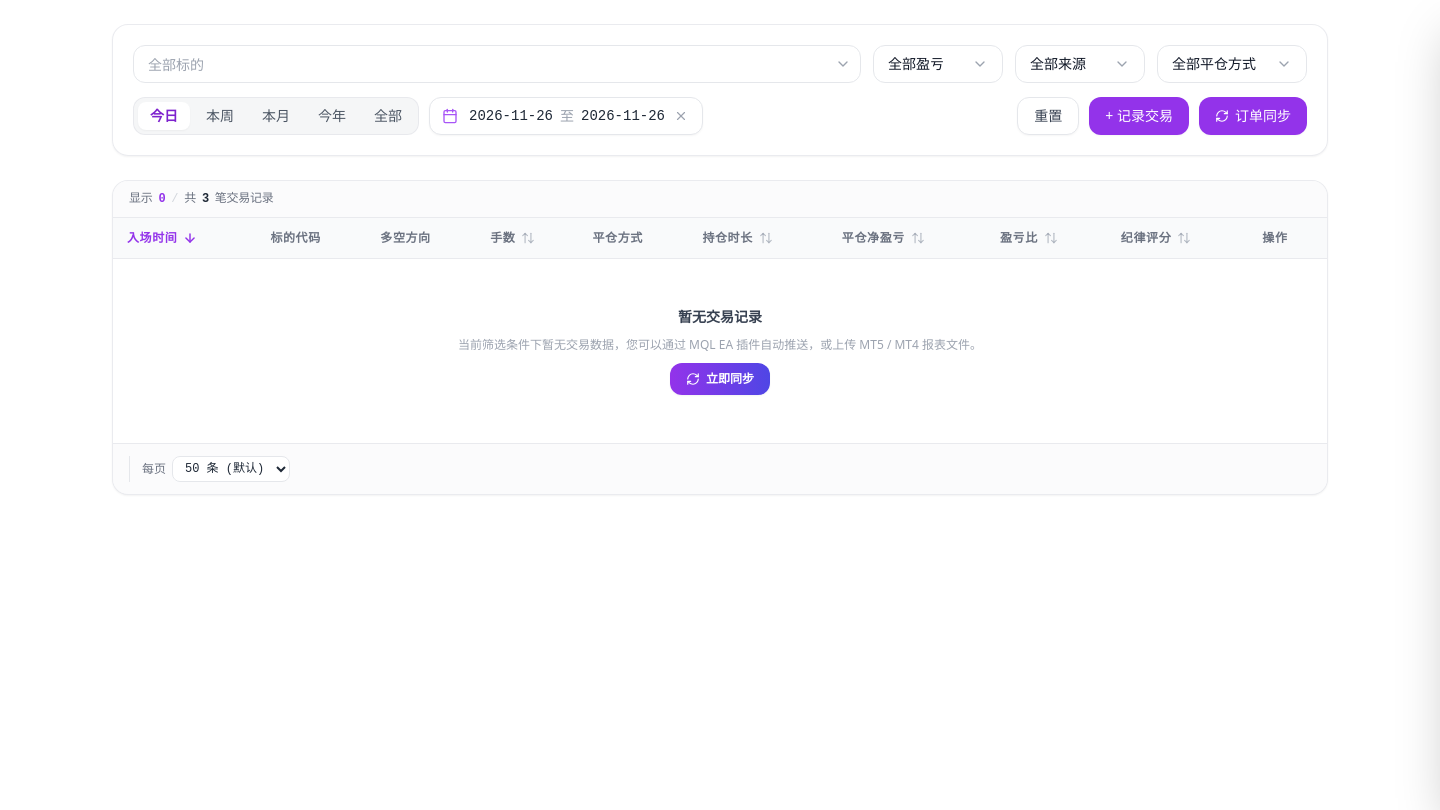
Test: TradesPage › renders "订单同步" button, unifies exit method, and filters by custom date range
This screenshot has width=1440, height=810.
Check: the button "订单同步" is shown, box left=1199, top=97, right=1307, bottom=135
Check: the column heading "平仓方式" is shown, box left=580, top=218, right=690, bottom=258
Note: Click "全部" to view all trades
Click the button "全部": [388, 116] box left=362, top=102, right=414, bottom=130
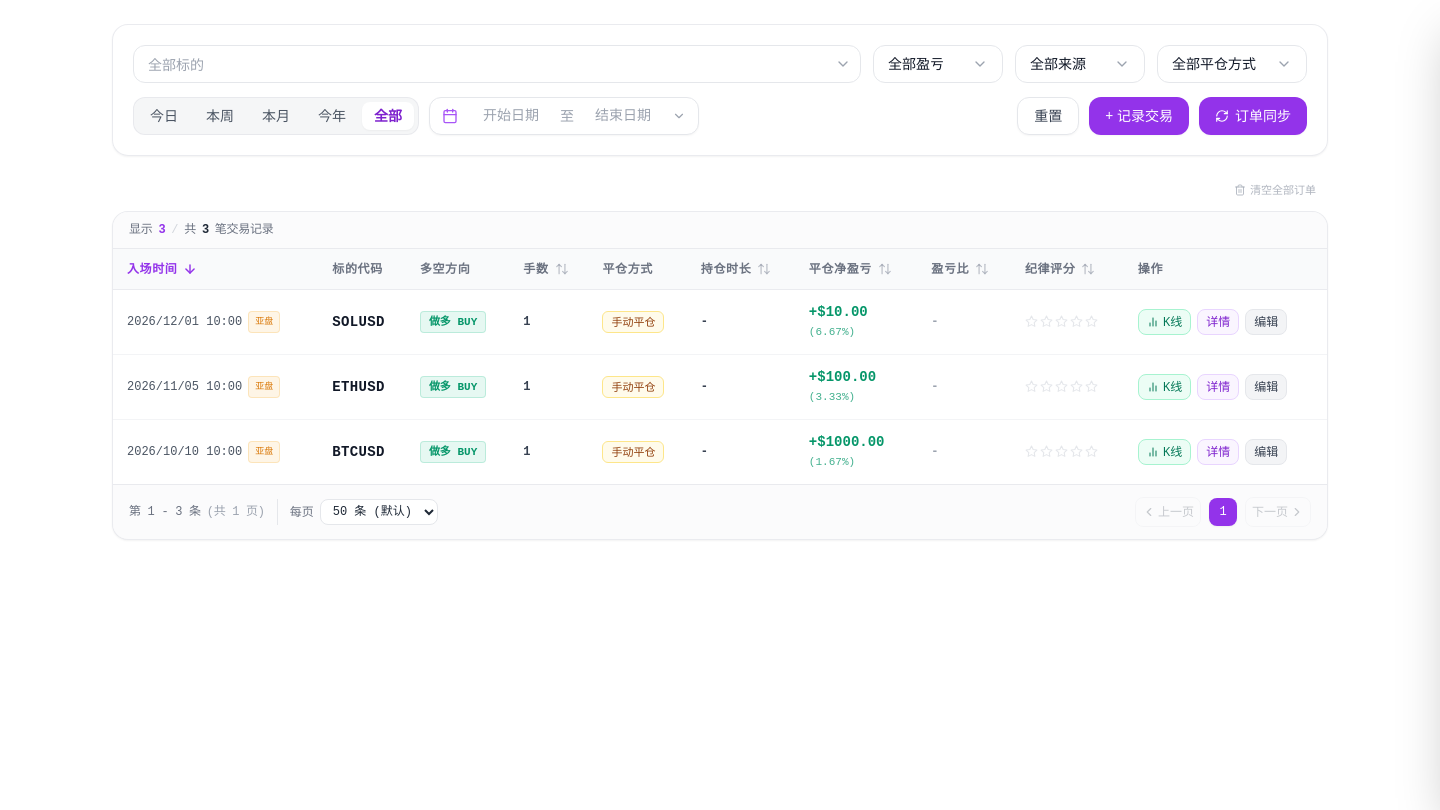
Check: the text "BTCUSD" is shown, box left=320, top=419, right=408, bottom=484
Check: the text "ETHUSD" is shown, box left=320, top=354, right=408, bottom=419
Check: the text "SOLUSD" is shown, box left=320, top=289, right=408, bottom=354
Note: Filter by custom date range (2026-11-01 to 2026-11-30)
In the field titled "开始日期": [511, 116] box left=466, top=106, right=556, bottom=126, type "2026-11-01"
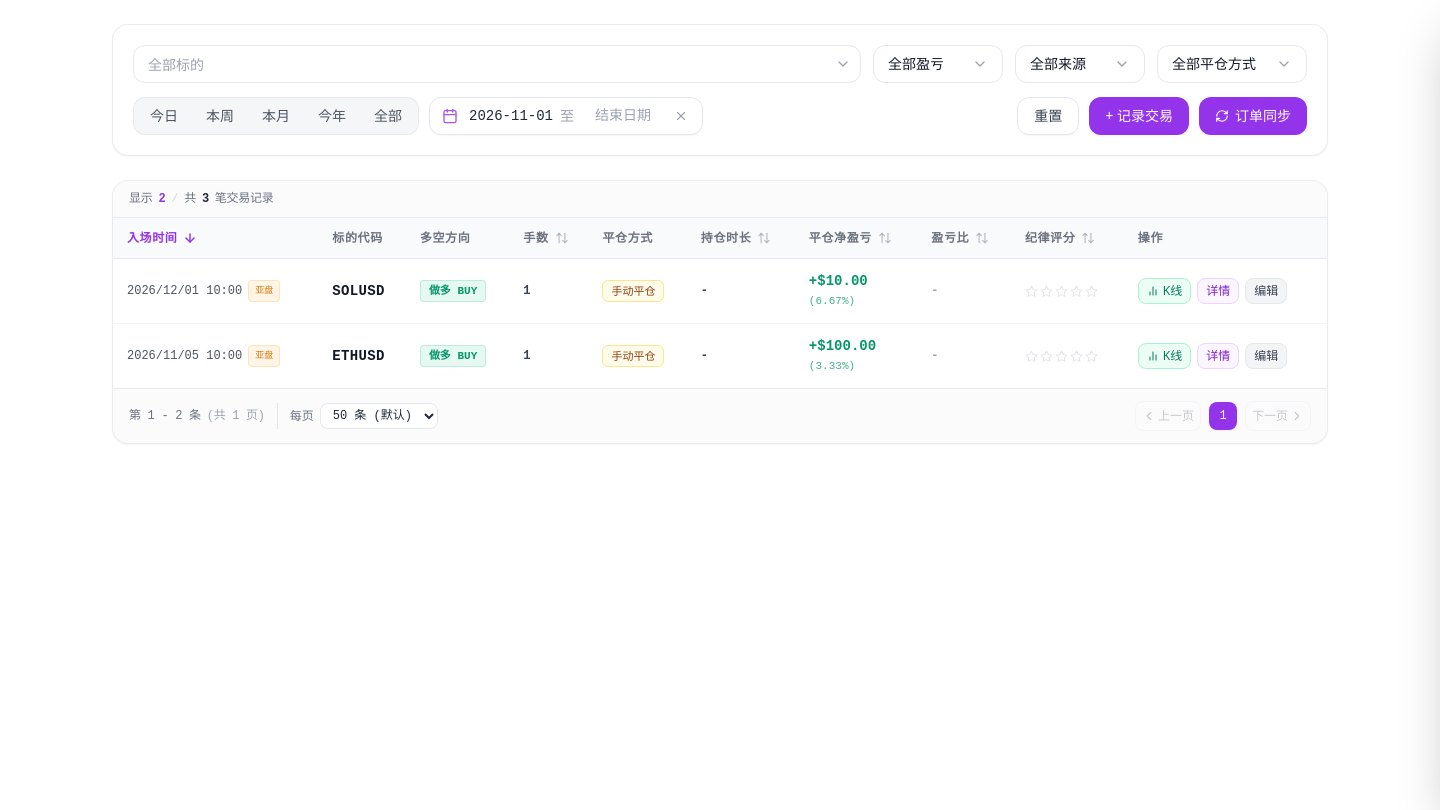
In the field titled "结束日期": [623, 116] box left=578, top=106, right=668, bottom=126, type "2026-11-30"
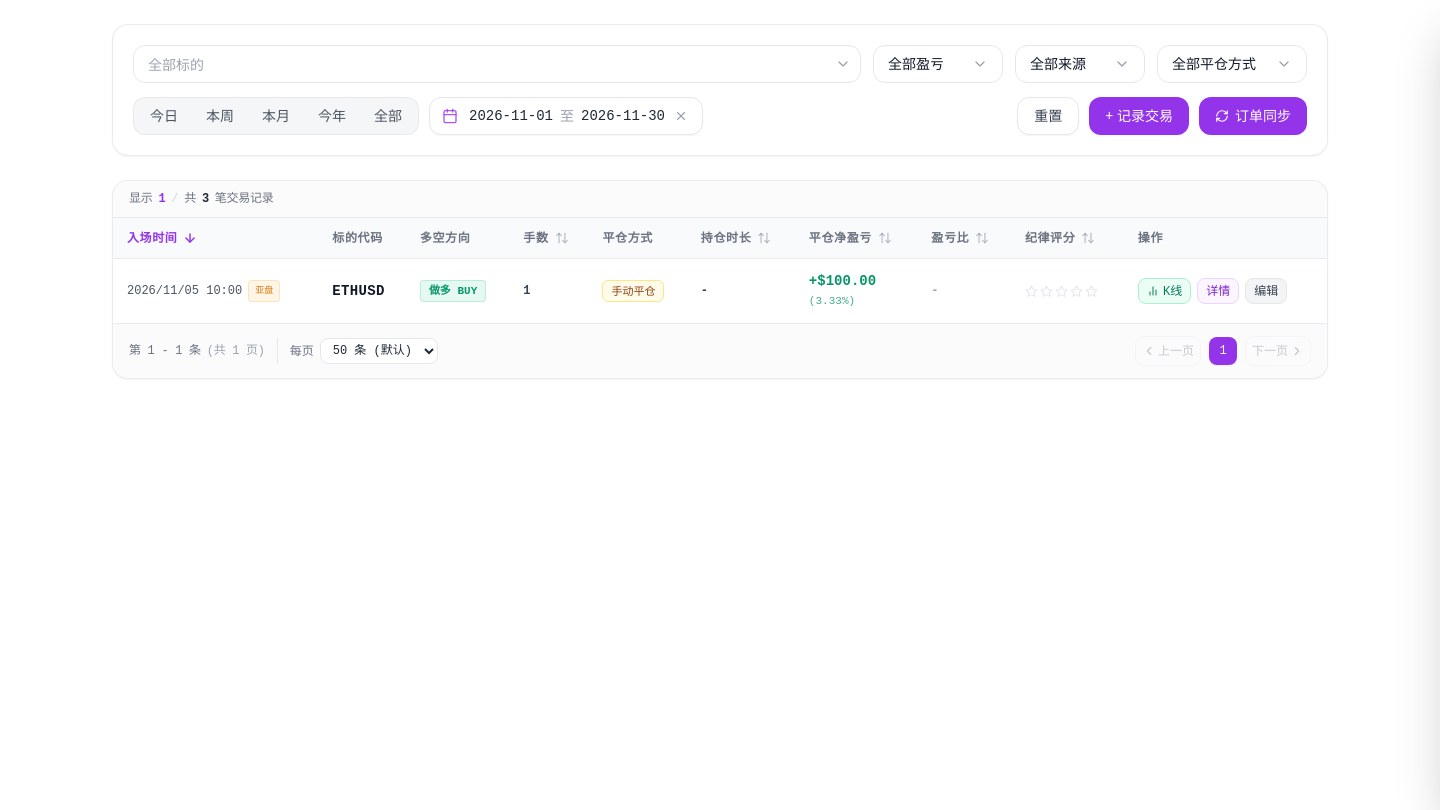
Check: the text "BTCUSD" is not shown
Check: the text "ETHUSD" is shown, box left=320, top=258, right=408, bottom=323
Check: the text "SOLUSD" is gone
